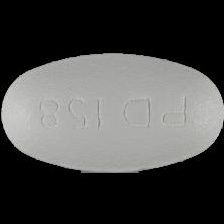0591-3777: (0, 0, 224, 224)
